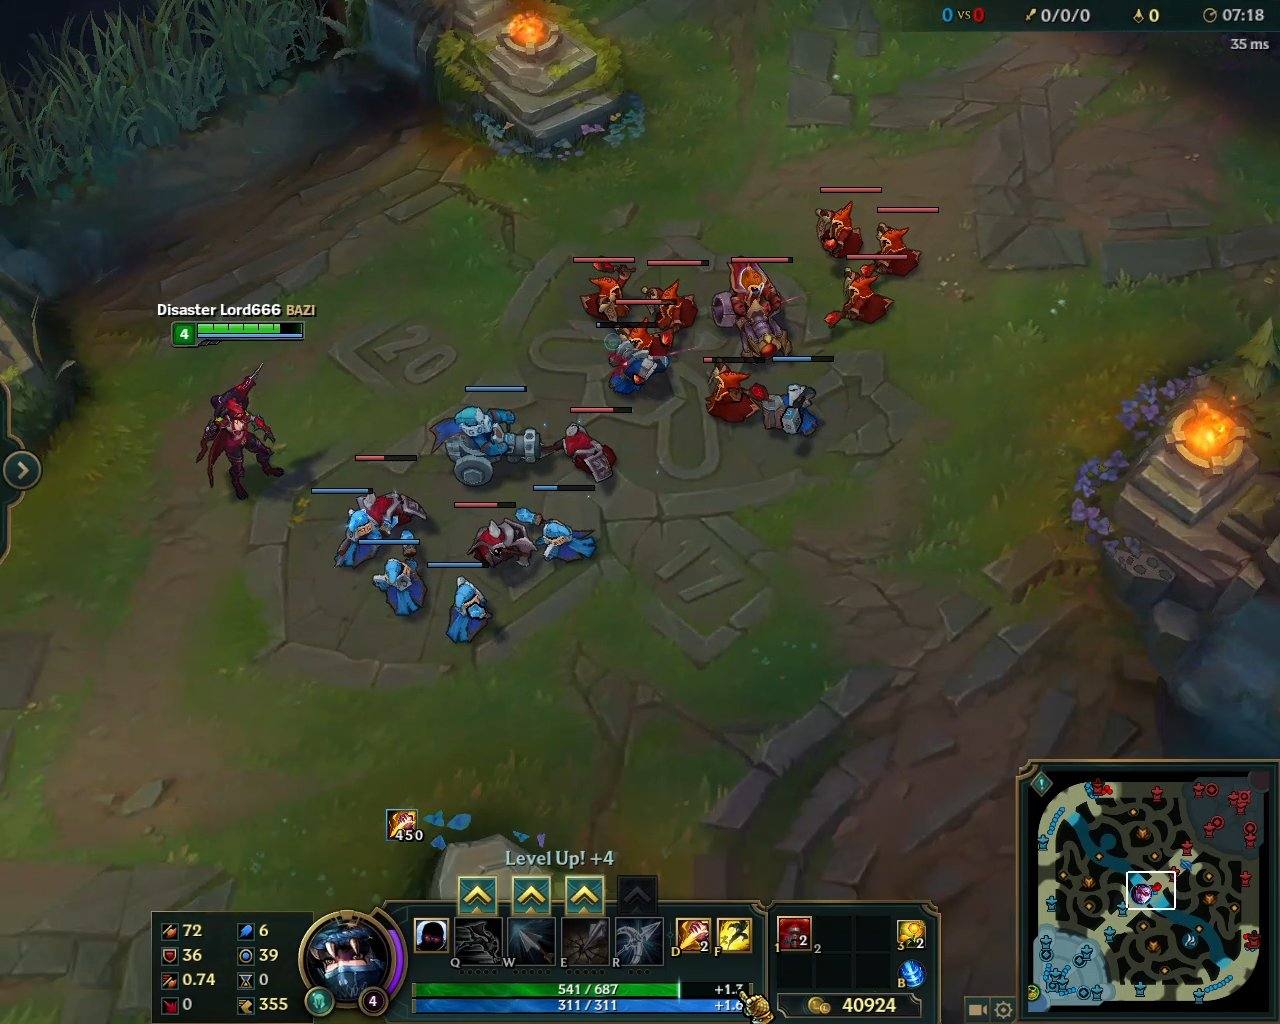EnemyMinion: (705, 253, 805, 360), (537, 404, 632, 486), (353, 449, 426, 544), (825, 253, 909, 328), (452, 502, 535, 573), (859, 207, 938, 280), (638, 259, 712, 332), (573, 254, 643, 328), (810, 187, 880, 257), (703, 355, 767, 430), (616, 299, 677, 359)
Vayne: (184, 357, 295, 515)
